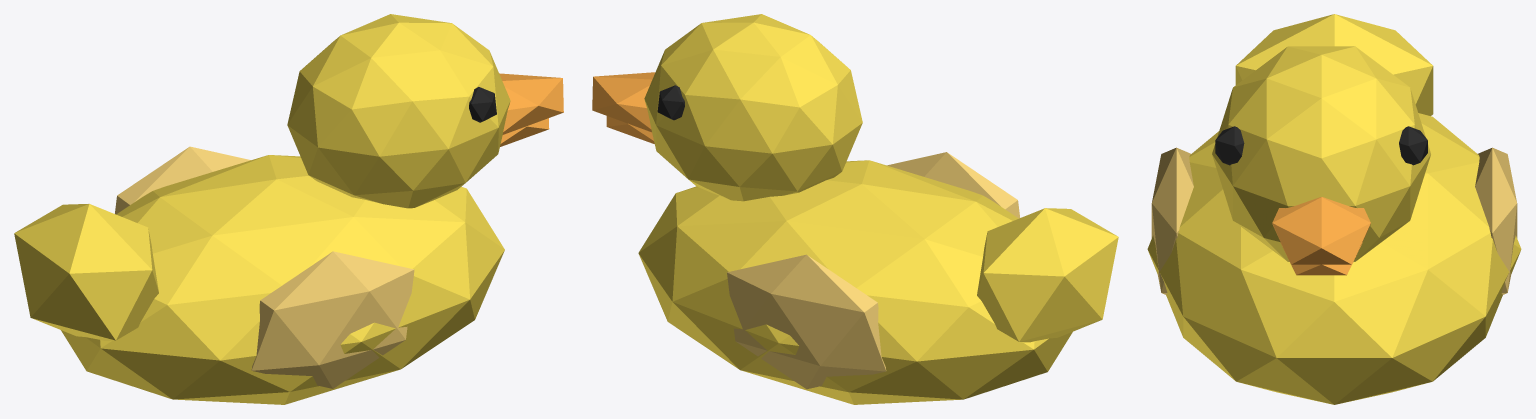
Rendered from rubber-duck.glb.
3 renders of one model, left to right at view 1: azimuth 30°, elevation 25°; view 2: azimuth 150°, elevation 25°; view 3: azimuth 270°, elevation 25°, orthographic. The views are drawn at different scales.
Visible parts, largest first — view 1: duck rounded body, duck upright head, tail lift, side wing left, upper orange bill, side wing right, eye, lower orange bill; view 2: duck rounded body, duck upright head, tail lift, side wing right, upper orange bill, side wing left, eye.001, lower orange bill; view 3: duck rounded body, duck upright head, tail lift, upper orange bill, side wing left, side wing right, eye.001, eye, lower orange bill.
Part boxes in pixels (left/top/right/bottom): duck rounded body: left=61, top=155, right=504, bottom=404; duck upright head: left=287, top=14, right=510, bottom=208; tail lift: left=14, top=204, right=158, bottom=340; side wing left: left=251, top=251, right=414, bottom=388; upper orange bill: left=499, top=73, right=563, bottom=134; side wing right: left=115, top=146, right=250, bottom=214; eye: left=469, top=87, right=496, bottom=122; lower orange bill: left=500, top=118, right=549, bottom=146; duck rounded body: left=638, top=160, right=1072, bottom=404; duck upright head: left=644, top=14, right=862, bottom=201; tail lift: left=977, top=208, right=1118, bottom=342; side wing right: left=727, top=254, right=886, bottom=389; upper orange bill: left=592, top=72, right=655, bottom=132; side wing left: left=887, top=152, right=1020, bottom=218; eye.001: left=657, top=85, right=684, bottom=120; lower orange bill: left=606, top=116, right=654, bottom=143; duck rounded body: left=1147, top=113, right=1521, bottom=404; duck upright head: left=1212, top=46, right=1430, bottom=261; tail lift: left=1235, top=14, right=1433, bottom=115; upper orange bill: left=1272, top=197, right=1370, bottom=264; side wing left: left=1151, top=147, right=1193, bottom=294; side wing right: left=1475, top=147, right=1517, bottom=294; eye.001: left=1399, top=126, right=1427, bottom=165; eye: left=1215, top=126, right=1244, bottom=165; lower orange bill: left=1280, top=242, right=1362, bottom=275.
Bounding box in the file's own units: 1.04 × 0.63 × 0.58.
